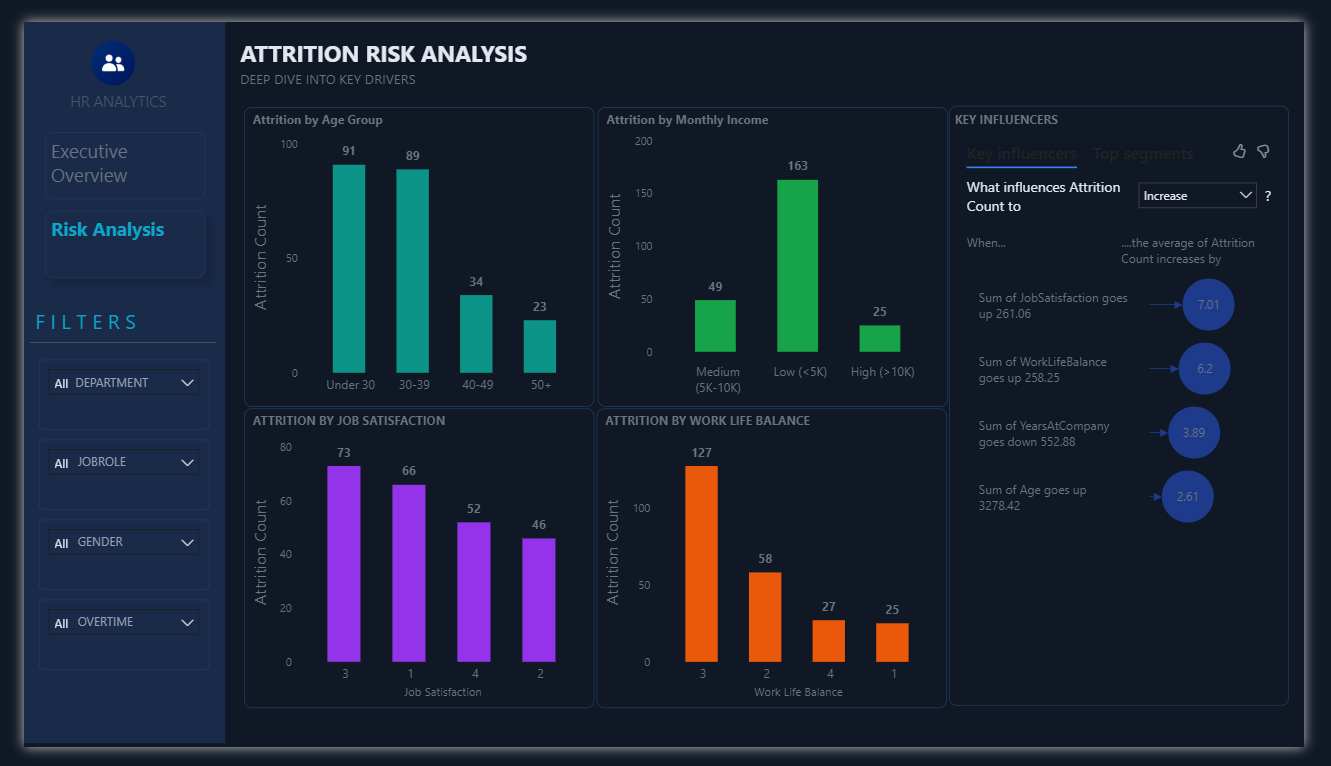

The page's visual inventory and layout, read from the dashboard file:
{"tool":"powerbi","page":{"name":"Attrition Risk Analysis","canvas":[1280,725],"ordinal":1},"visuals":[{"type":"textbox","title":"ATTRITION RISK ANALYSIS","box":[211.1,14.4,327.8,86.7],"z":4000},{"type":"clusteredColumnChart","title":"Attrition by Age Group","fields":{"Category":["Hr_Employ_attrition_cleaned.AgeGroup"],"Y":["Hr_Employ_attrition_cleaned.Attrition Count"]},"box":[220,84.4,350,300],"z":6000},{"type":"clusteredColumnChart","title":"Attrition by Monthly Income","fields":{"Y":["Hr_Employ_attrition_cleaned.Attrition Count"],"Category":["Hr_Employ_attrition_cleaned.IncomeBucket"]},"box":[573.4,84.4,350,300],"z":7000},{"type":"clusteredColumnChart","title":"ATTRITION BY JOB SATISFACTION","fields":{"Y":["Hr_Employ_attrition_cleaned.Attrition Count"],"Category":["Hr_Employ_attrition_cleaned.JobSatisfaction"]},"box":[220,386.7,350,300],"z":8000},{"type":"clusteredColumnChart","title":"ATTRITION BY WORK LIFE BALANCE","fields":{"Y":["Hr_Employ_attrition_cleaned.Attrition Count"],"Category":["Hr_Employ_attrition_cleaned.WorkLifeBalance"]},"box":[573.1,386,350,300],"z":9000},{"type":"keyDriversVisual","title":"KEY INFLUENCERS","fields":{"Target":["Hr_Employ_attrition_cleaned.Attrition Count"],"ExplainBy":["Hr_Employ_attrition_cleaned.OverTime","Sum(Hr_Employ_attrition_cleaned.JobSatisfaction)","Sum(Hr_Employ_attrition_cleaned.WorkLifeBalance)","Hr_Employ_attrition_cleaned.IncomeBucket","Sum(Hr_Employ_attrition_cleaned.YearsAtCompany)","Sum(Hr_Employ_attrition_cleaned.Age)","Hr_Employ_attrition_cleaned.Department"]},"box":[925.6,84,340,600],"z":10000},{"type":"shape","box":[0,0,201.4,721.4],"z":11000},{"type":"slicer","fields":{"Values":["Hr_Employ_attrition_cleaned.JobRole"]},"box":[14.4,417.5,170,70],"z":12000,"group":"g2"},{"type":"textbox","title":"HR ANALYTICS","box":[41.5,68.4,113.2,61.6],"z":13000},{"type":"image","box":[17.1,14.3,142.9,54.3],"z":15000},{"type":"textbox","title":"F I L T E R S","box":[6.7,285.6,185.6,48.9],"z":16000},{"type":"slicer","fields":{"Values":["Hr_Employ_attrition_cleaned.Department"]},"box":[14.4,337.9,170,70],"z":17000,"group":"g2"},{"type":"slicer","fields":{"Values":["Hr_Employ_attrition_cleaned.Gender"]},"box":[14.4,497.5,170,70],"z":18000,"group":"g2"},{"type":"slicer","fields":{"Values":["Hr_Employ_attrition_cleaned.OverTime"]},"box":[14.4,577.5,170,70],"z":19000,"group":"g2"},{"type":"actionButton","title":"Executive Overview","box":[21.1,110.1,160,67.1],"z":33000},{"type":"actionButton","title":"Risk Analysis","box":[21.1,188.7,160,67.1],"z":34000},{"type":"textbox","title":"DEPARTMENT","box":[46.1,353.3,93.3,50],"z":43000,"group":"g2"},{"type":"textbox","title":"JOBROLE","box":[48.5,432.2,71.1,46.7],"z":44000,"group":"g2"},{"type":"textbox","title":"GENDER","box":[48.5,511.1,71.1,43.3],"z":45000,"group":"g2"},{"type":"textbox","title":"OVERTIME","box":[48.5,592.2,75.6,43.3],"z":46000,"group":"g2"},{"type":"group","id":"g1","title":"Group 1","box":[14.4,337.9,170,309.6],"z":46001},{"type":"group","id":"g2","title":"Group 2","box":[14.4,337.9,170,309.6],"z":46002,"group":"g1"}]}

Visuals, with their boxes in screenshot pixels (x1, y1, x2, y2), scaled from the page's 1280x725 canvas onto the 1331x766 screenshot:
"ATTRITION RISK ANALYSIS" textbox: rect(220, 15, 560, 107)
"Attrition by Age Group" clusteredColumnChart: rect(229, 89, 593, 406)
"Attrition by Monthly Income" clusteredColumnChart: rect(596, 89, 960, 406)
"ATTRITION BY JOB SATISFACTION" clusteredColumnChart: rect(229, 409, 593, 726)
"ATTRITION BY WORK LIFE BALANCE" clusteredColumnChart: rect(596, 408, 960, 725)
"KEY INFLUENCERS" keyDriversVisual: rect(962, 89, 1316, 723)
shape: rect(0, 0, 209, 762)
slicer - Hr_Employ_attrition_cleaned.JobRole: rect(15, 441, 192, 515)
"HR ANALYTICS" textbox: rect(43, 72, 161, 137)
image: rect(18, 15, 166, 72)
"F I L T E R S" textbox: rect(7, 302, 200, 353)
slicer - Hr_Employ_attrition_cleaned.Department: rect(15, 357, 192, 431)
slicer - Hr_Employ_attrition_cleaned.Gender: rect(15, 526, 192, 600)
slicer - Hr_Employ_attrition_cleaned.OverTime: rect(15, 610, 192, 684)
"Executive Overview" actionButton: rect(22, 116, 188, 187)
"Risk Analysis" actionButton: rect(22, 199, 188, 270)
"DEPARTMENT" textbox: rect(48, 373, 145, 426)
"JOBROLE" textbox: rect(50, 457, 124, 506)
"GENDER" textbox: rect(50, 540, 124, 586)
"OVERTIME" textbox: rect(50, 626, 129, 671)
"Group 1" group: rect(15, 357, 192, 684)
"Group 2" group: rect(15, 357, 192, 684)
